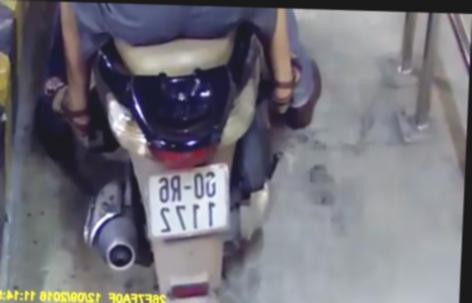License_Plate: (139, 156, 238, 249)
